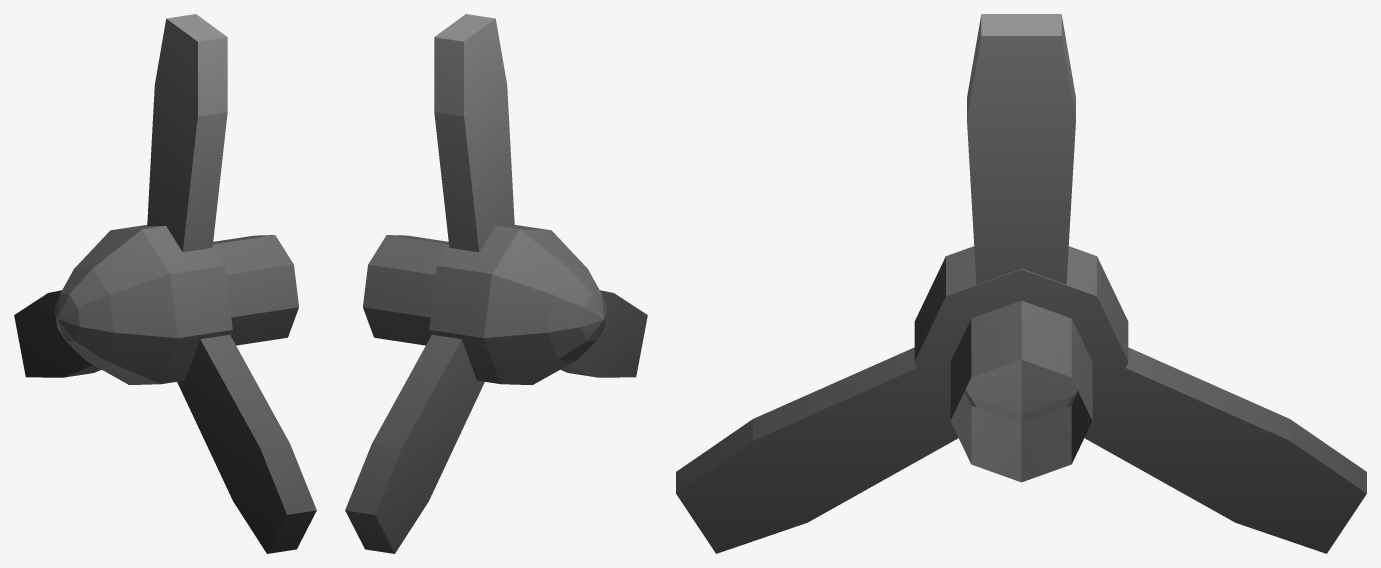
File: aspa.obj
3 views of the same model, side by side, from view 1: azimuth 30°, elevation 25°; view 2: azimuth 150°, elevation 25°; view 3: azimuth 270°, elevation 25° (orthographic). The views are drawn at different scales.
Parts seen in each view (by area): view 1: G_Propeller_Malla.013; view 2: G_Propeller_Malla.013; view 3: G_Propeller_Malla.013.
Part boxes in pixels (x1,y1,x2,y2): G_Propeller_Malla.013: [14, 14, 316, 553]; G_Propeller_Malla.013: [345, 14, 647, 553]; G_Propeller_Malla.013: [676, 14, 1366, 553].
Bounding box in the file's own units: 0.1881 × 0.3545 × 0.4083.
